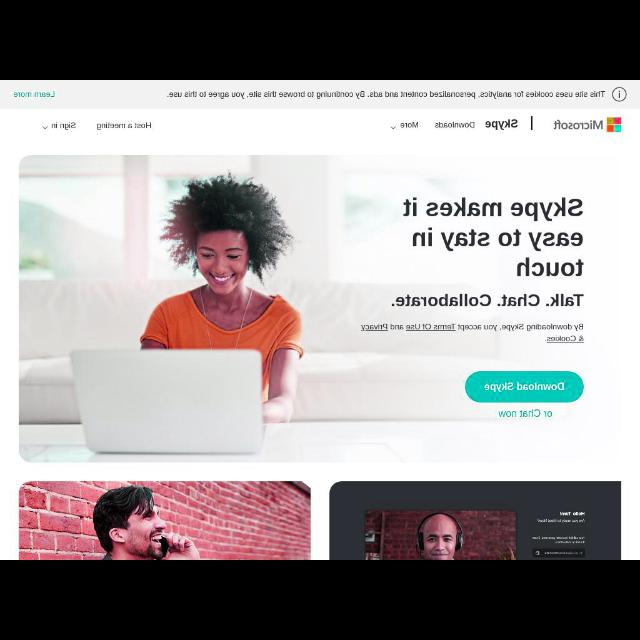backgroundimage: (19, 155, 631, 463)
icon: (612, 86, 626, 102), (42, 126, 48, 130), (391, 126, 395, 130)
image: (18, 481, 312, 559), (330, 482, 622, 558), (553, 117, 621, 131)
spinner: (42, 122, 76, 130), (390, 122, 418, 130)
text: (403, 198, 583, 276), (361, 323, 583, 343), (167, 90, 605, 100), (391, 294, 583, 308), (484, 382, 564, 392), (498, 408, 552, 418), (96, 122, 152, 130), (484, 119, 518, 131), (14, 90, 54, 98), (435, 122, 475, 128)
textbutton: (464, 371, 584, 403)
toolbar: (1, 109, 639, 141)
